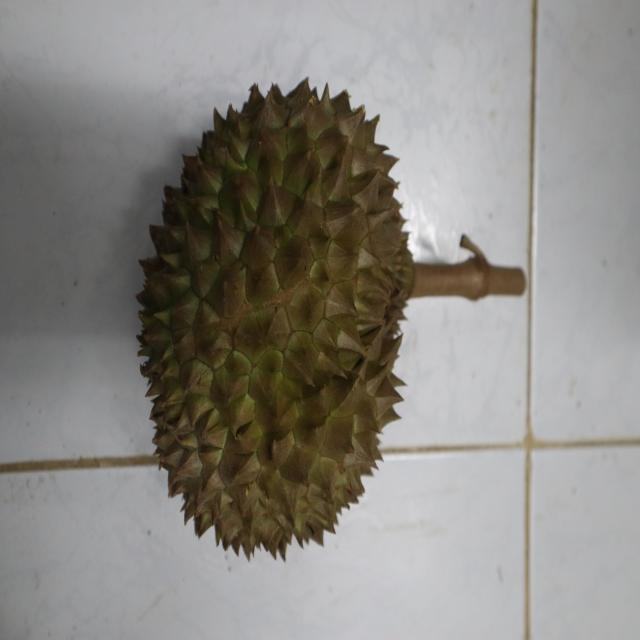mature: (134, 74, 414, 560)
